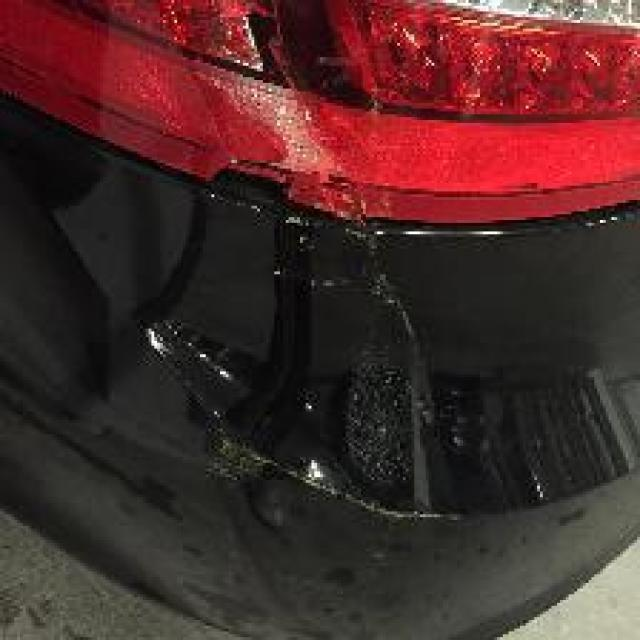damaged: (137, 160, 463, 534)
